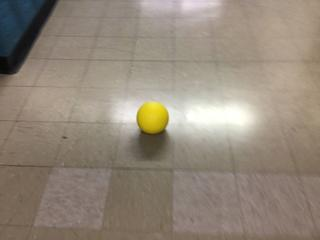power_cell: (134, 102, 169, 136)
